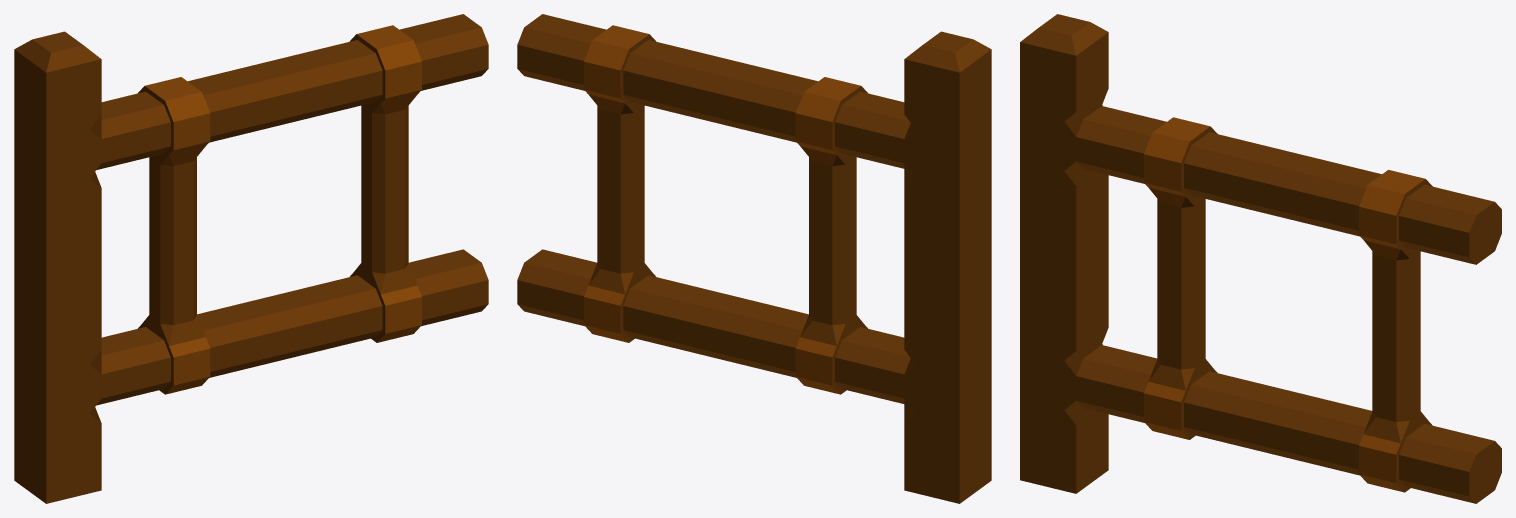
Rendered from Fence_02.fbx.
3 views of the same model, side by side, from view 1: azimuth 30°, elevation 25°; view 2: azimuth 150°, elevation 25°; view 3: azimuth 330°, elevation 25° (orthographic).
Parts seen in each view (by area): view 1: Fence_02; view 2: Fence_02; view 3: Fence_02.
Part boxes in pixels (x1,y1,x2,y2): Fence_02: (14,14,488,503); Fence_02: (517,14,991,503); Fence_02: (1020,14,1501,503).
Size of the model in its own units: 142 by 136 by 20.76.
